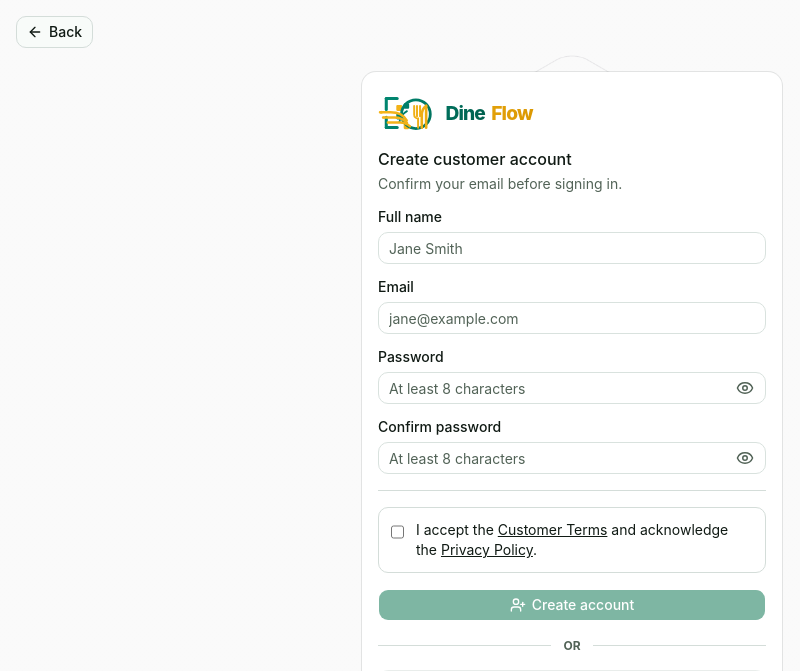
Test: the password fields › offers a visibility control on each one
The image size is (800, 671).
Expected: the number of buttons named "Show password" is 2, left=730, top=373, right=760, bottom=403; left=730, top=443, right=760, bottom=473
Type "Sunshine1!" into the password field labelled "Password" at point(572, 388), box left=378, top=372, right=766, bottom=404
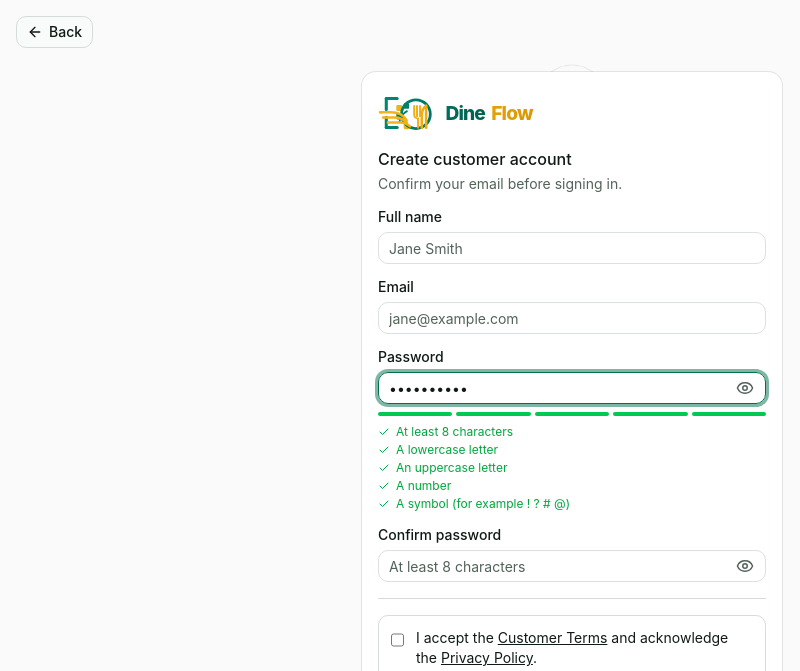
Click the 1st button named "Show password" at point(745, 388), box left=730, top=373, right=760, bottom=403
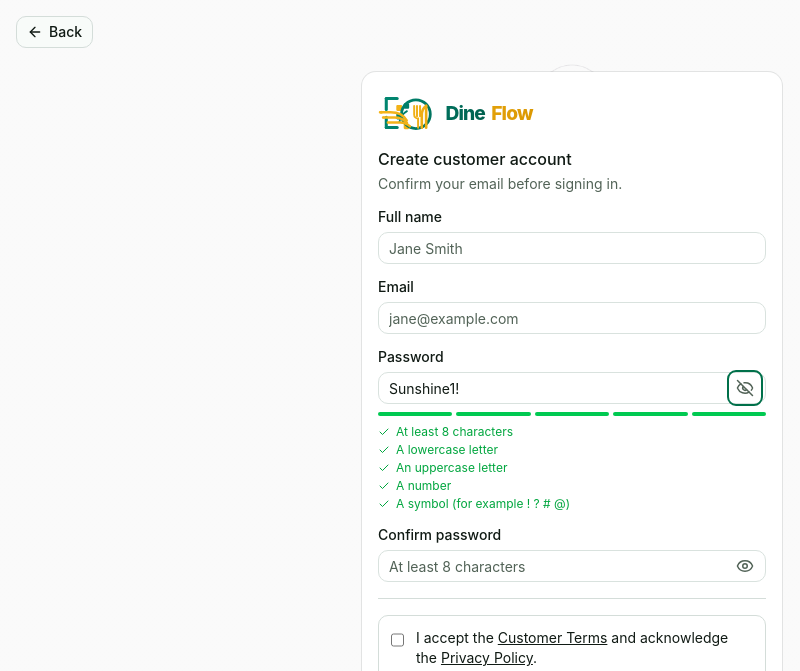
Expected: the field labelled "Password" shows its text, left=378, top=372, right=766, bottom=404
